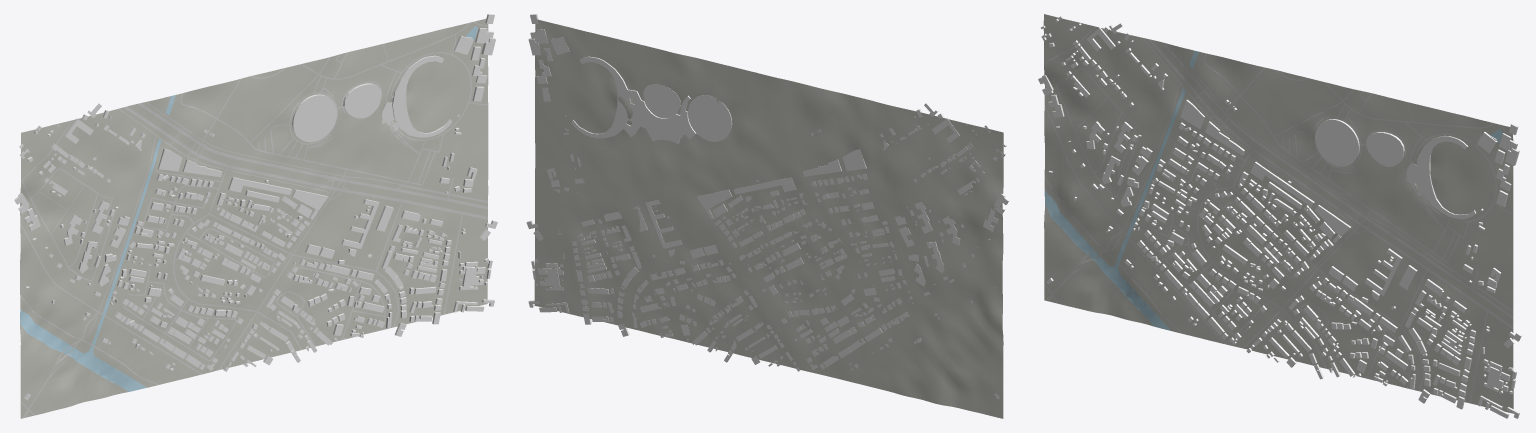
File: topoexport_3D_modeling.glb
3 views of the same model, side by side, from view 1: azimuth 30°, elevation 25°; view 2: azimuth 150°, elevation 25°; view 3: azimuth 330°, elevation 25° (orthographic).
Parts seen in each view (by area): view 1: TPX_Ground, TPX_Buildings, TPX_RoadsOutlines, TPX_Waterways_1; view 2: TPX_Ground, TPX_Buildings; view 3: TPX_Ground, TPX_Buildings, TPX_RoadsOutlines, TPX_Waterways_1.
Part boxes in pixels (x1,y1,x2,y2): TPX_Ground: (20, 19, 488, 418); TPX_Buildings: (14, 14, 497, 400); TPX_RoadsOutlines: (20, 21, 488, 418); TPX_Waterways_1: (20, 26, 478, 391); TPX_Ground: (534, 19, 1003, 418); TPX_Buildings: (526, 14, 1009, 399); TPX_Ground: (1043, 14, 1513, 413); TPX_Buildings: (1038, 15, 1521, 418); TPX_RoadsOutlines: (1044, 26, 1513, 403); TPX_Waterways_1: (1044, 50, 1502, 330).
Size of the model in its own units: 1313 by 800 by 14.53.
